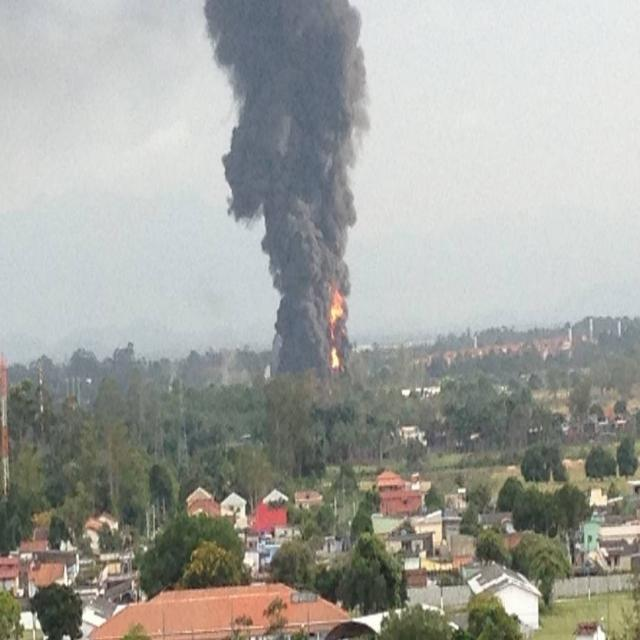Fire: (328, 288, 344, 369)
Smoke: (202, 1, 372, 377)
